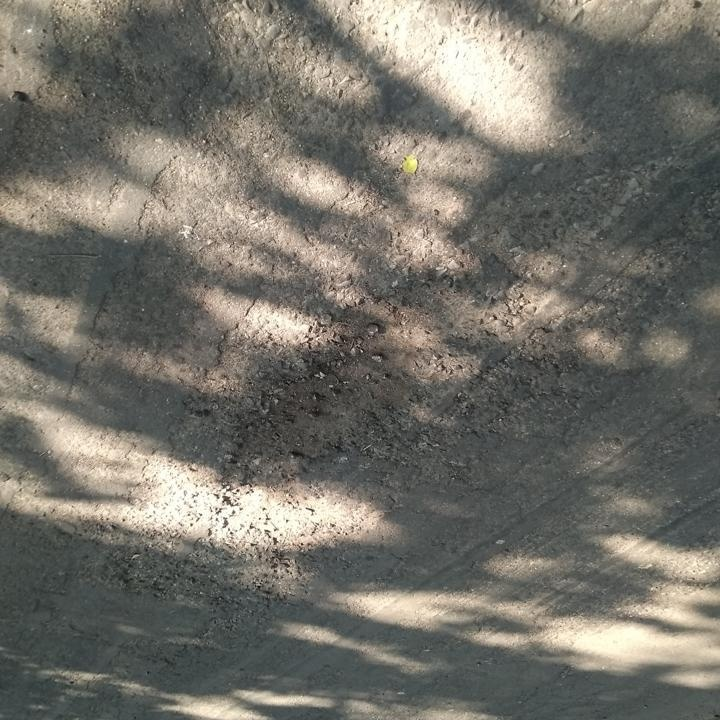pothole: (215, 299, 449, 495)
